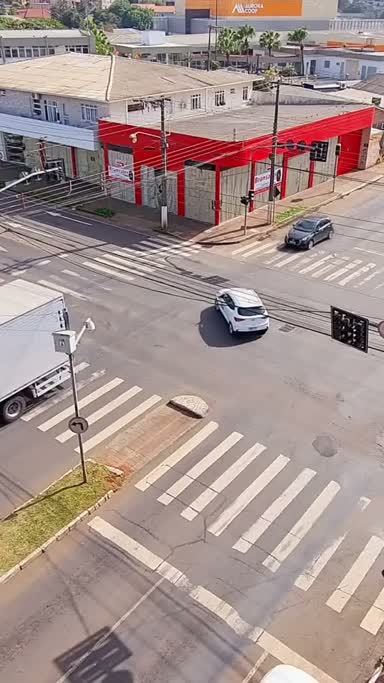car: (208, 277, 275, 345), (279, 208, 337, 257)
